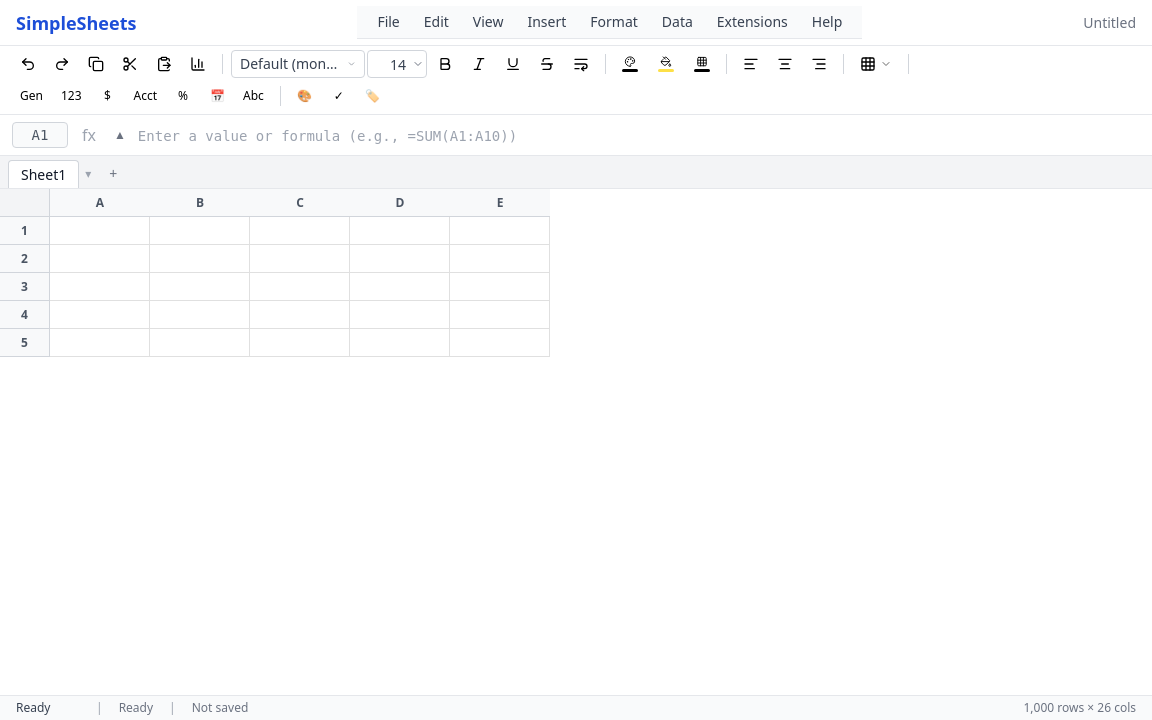
Test: App - Window Blur Handler › commits active edit when window loses focus
Start editing via FormulaBar (drives FSM into ENTER/EDIT state)
Type "blur test" into the field with placeholder "Enter a value or formula (e.g., =SUM(A1:A10))".
click(639, 136); type("blur test")  # box [138,126,1140,146]
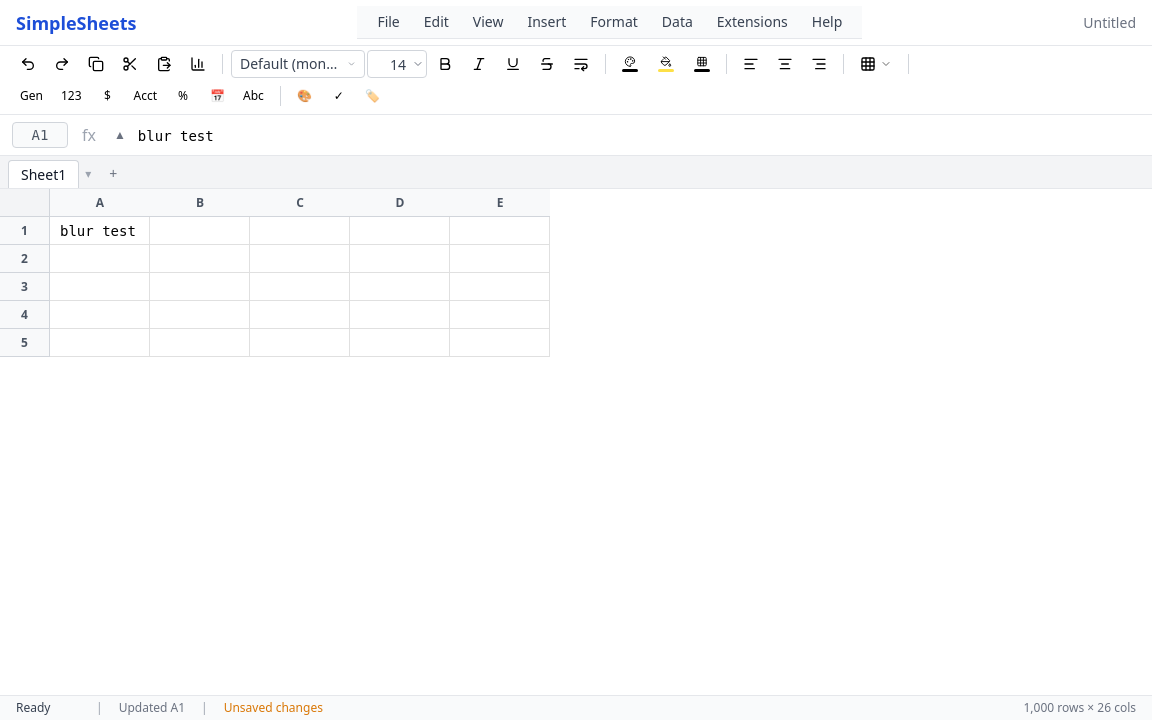
Now the element with class "grid-cell" reads "blur test", box [60,223,136,239]
